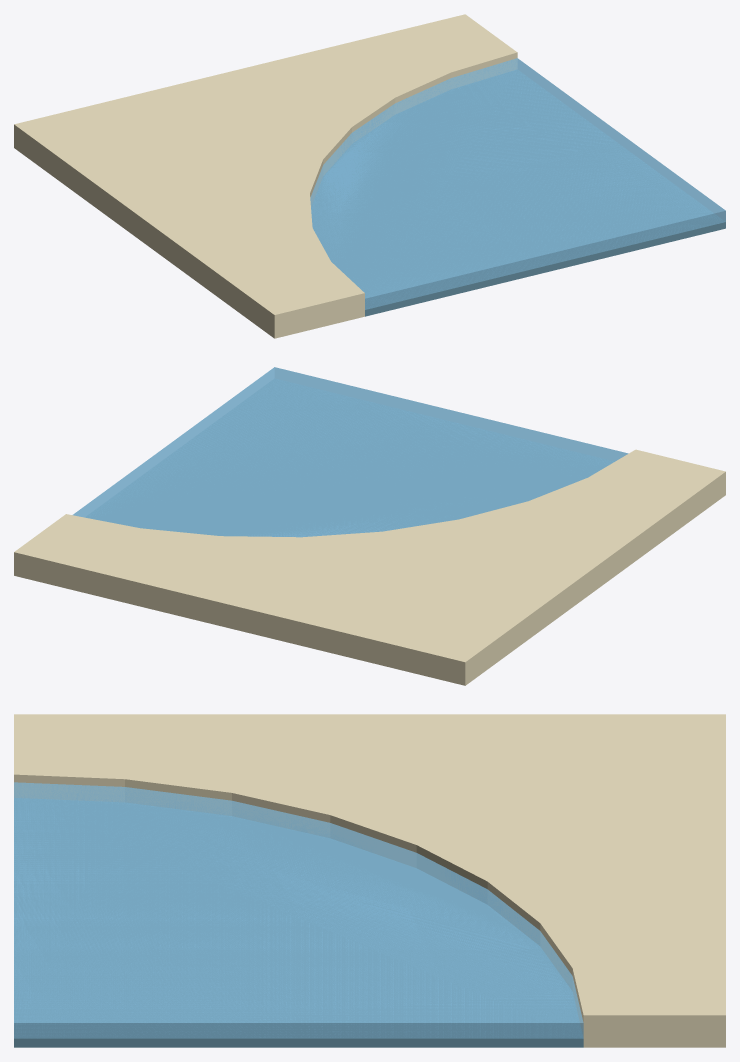
File: pond_corner_out.glb
3 views of the same model, one above another, from view 1: azimuth 30°, elevation 25°; view 2: azimuth 150°, elevation 25°; view 3: azimuth 270°, elevation 25° (orthographic). The views are drawn at different scales.
Visible parts, largest first — view 1: land, water; view 2: land, water; view 3: land, water.
Part boxes in pixels (x1,y1,x2,y2): land: [14, 14, 517, 338]; water: [310, 58, 725, 316]; land: [14, 449, 725, 685]; water: [72, 367, 628, 537]; land: [14, 714, 725, 1047]; water: [14, 782, 583, 1047].
Size of the model in its own units: 1 by 0.05 by 1.
